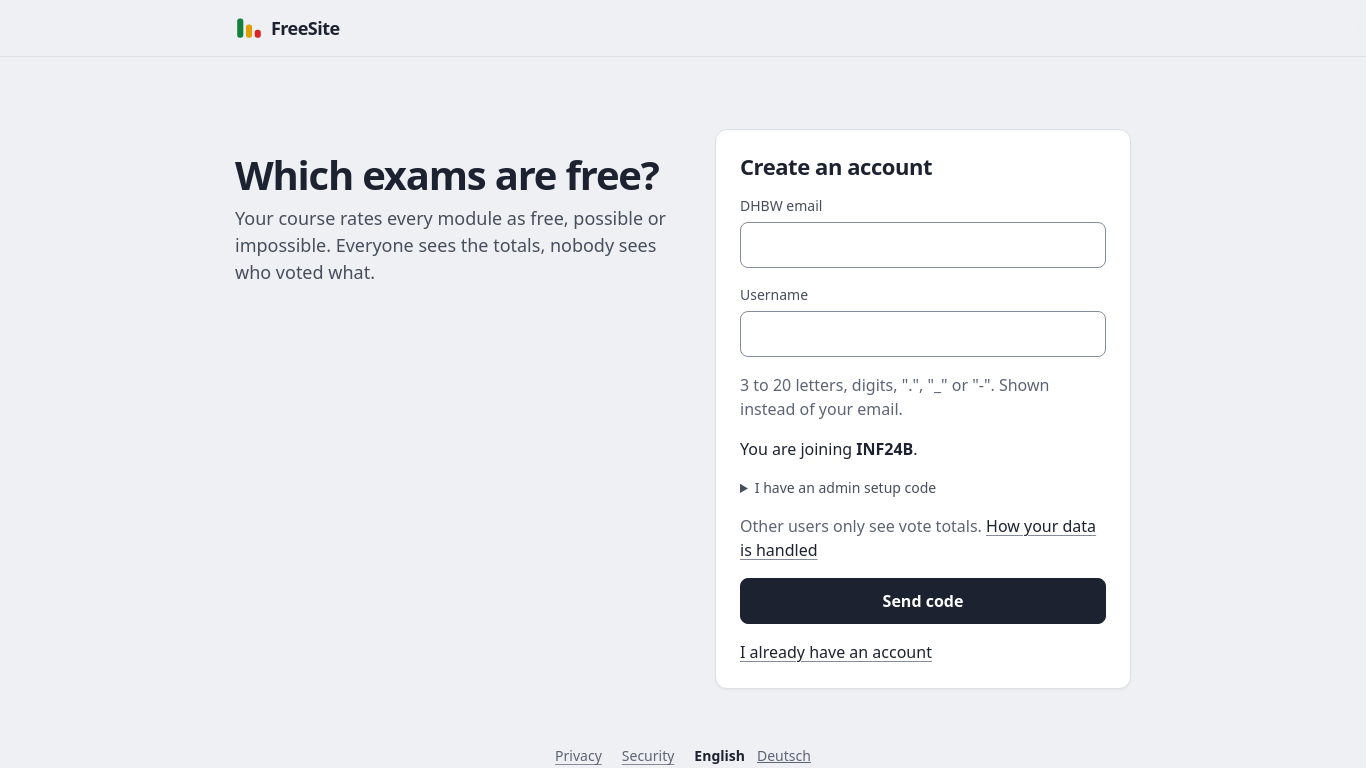
Test: invite links › for guests › registers without asking for the course code, using the one of the link
The width and height of the screenshot is (1366, 768).
Expected: the text "INF24B" is shown, [856, 438, 913, 460]
Type "student@dhbw.example" into the field labelled "DHBW email".
click(923, 245); type("student@dhbw.example")  # box [740, 222, 1106, 268]
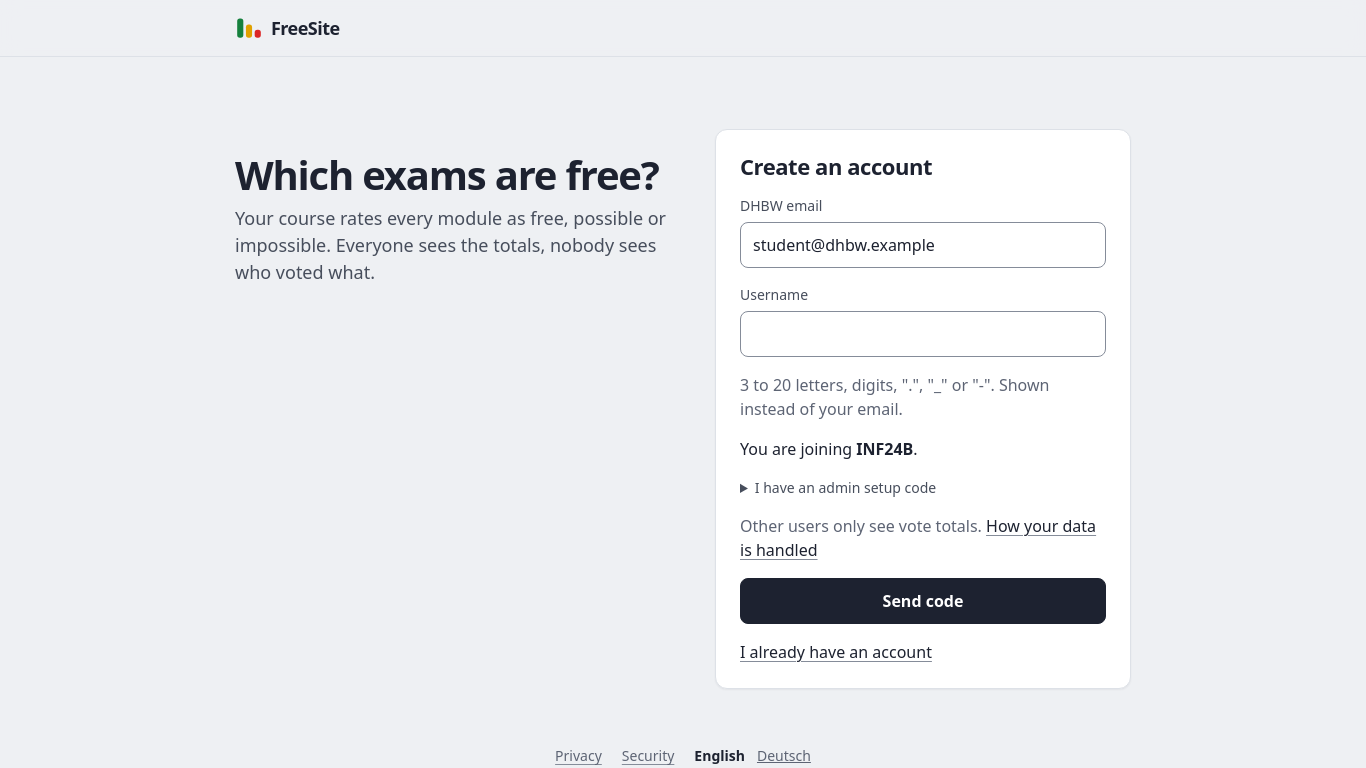
Type "student" into the field labelled "Username".
click(923, 334); type("student")  # box [740, 311, 1106, 357]
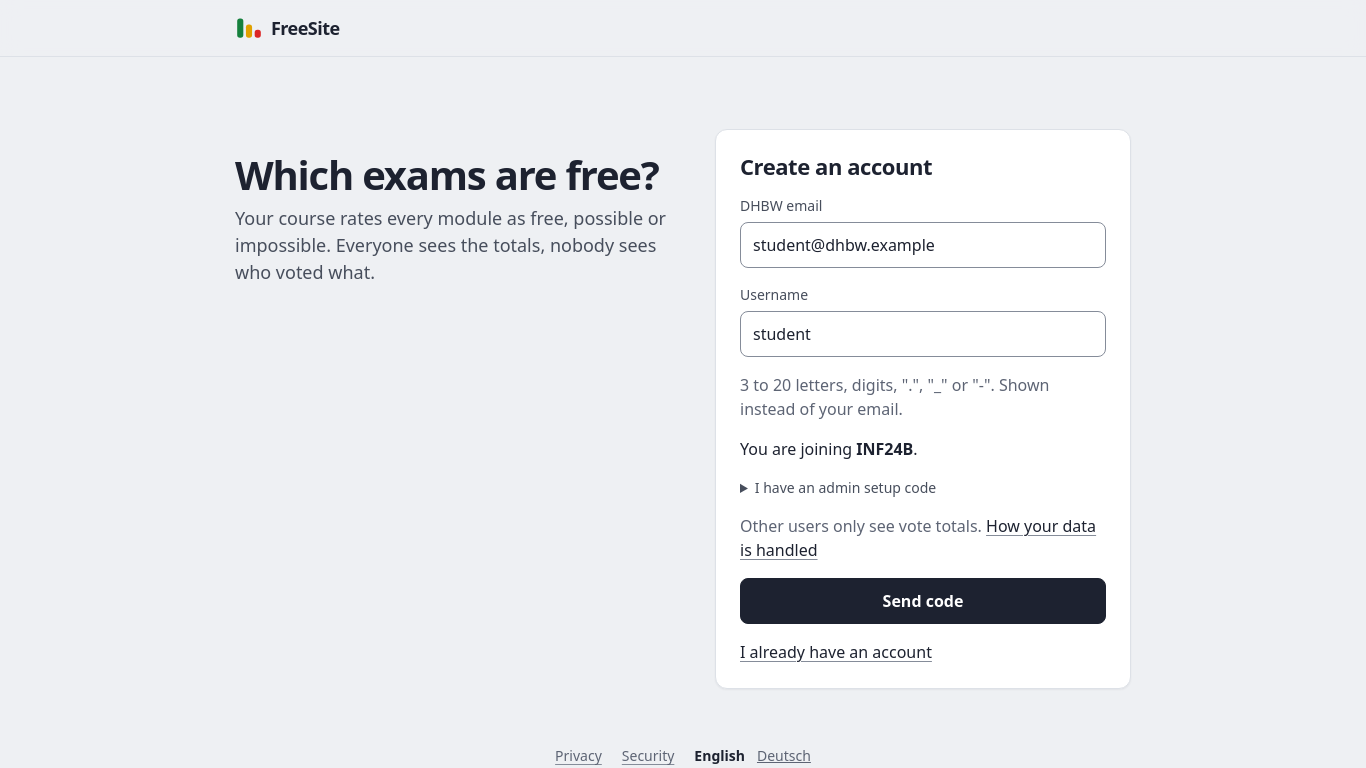
Click the button "Send code".
click(923, 601)  # box [740, 578, 1106, 624]
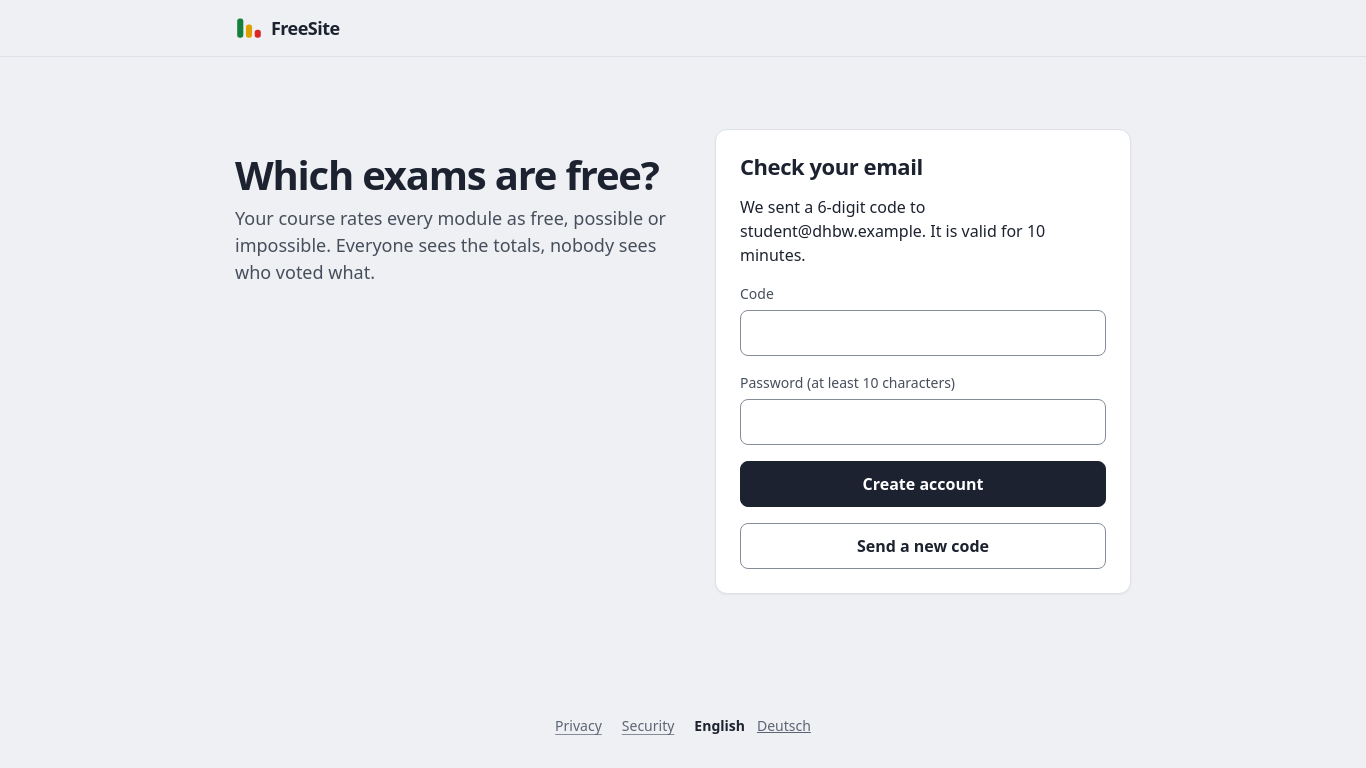
Expected: the heading "Check your email" is shown, [740, 151, 923, 181]
